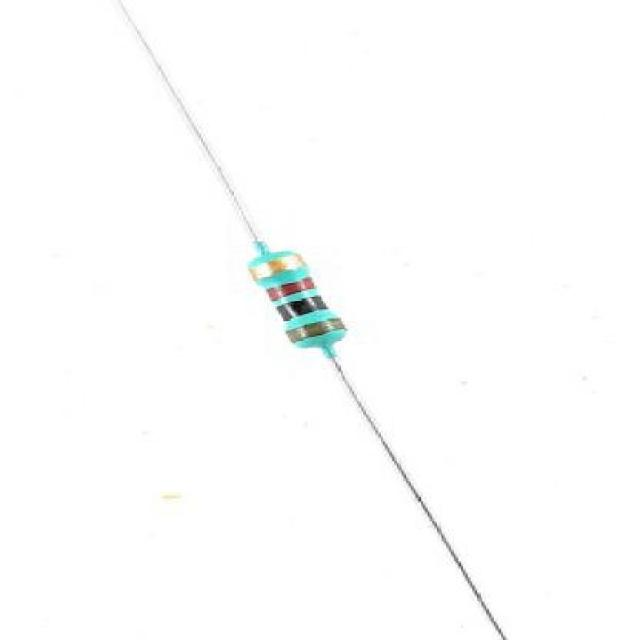Capacitor: (249, 240, 348, 362)
